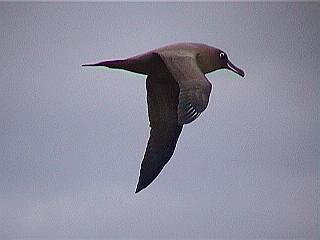003.Sooty_Albatross: (82, 41, 246, 195)
